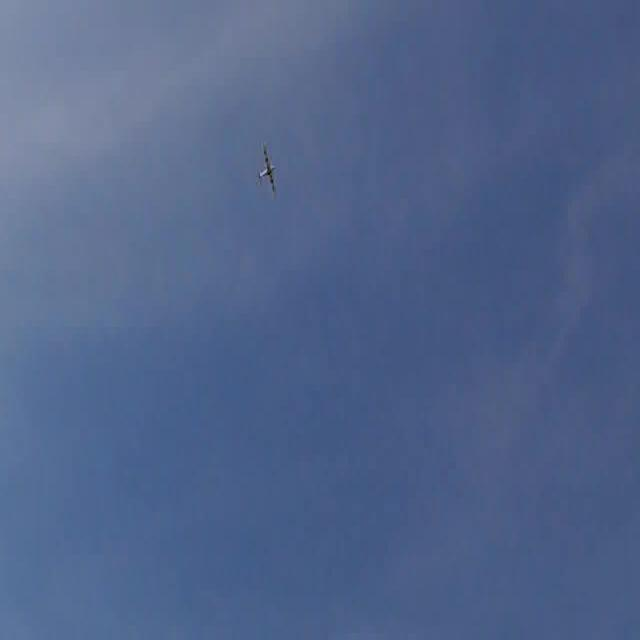iha: (247, 169, 275, 171)
